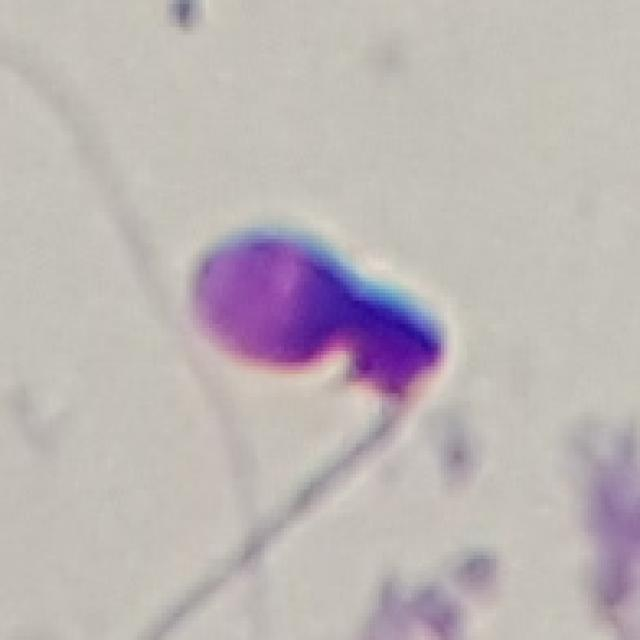abnormal sperm: (191, 213, 479, 509)
